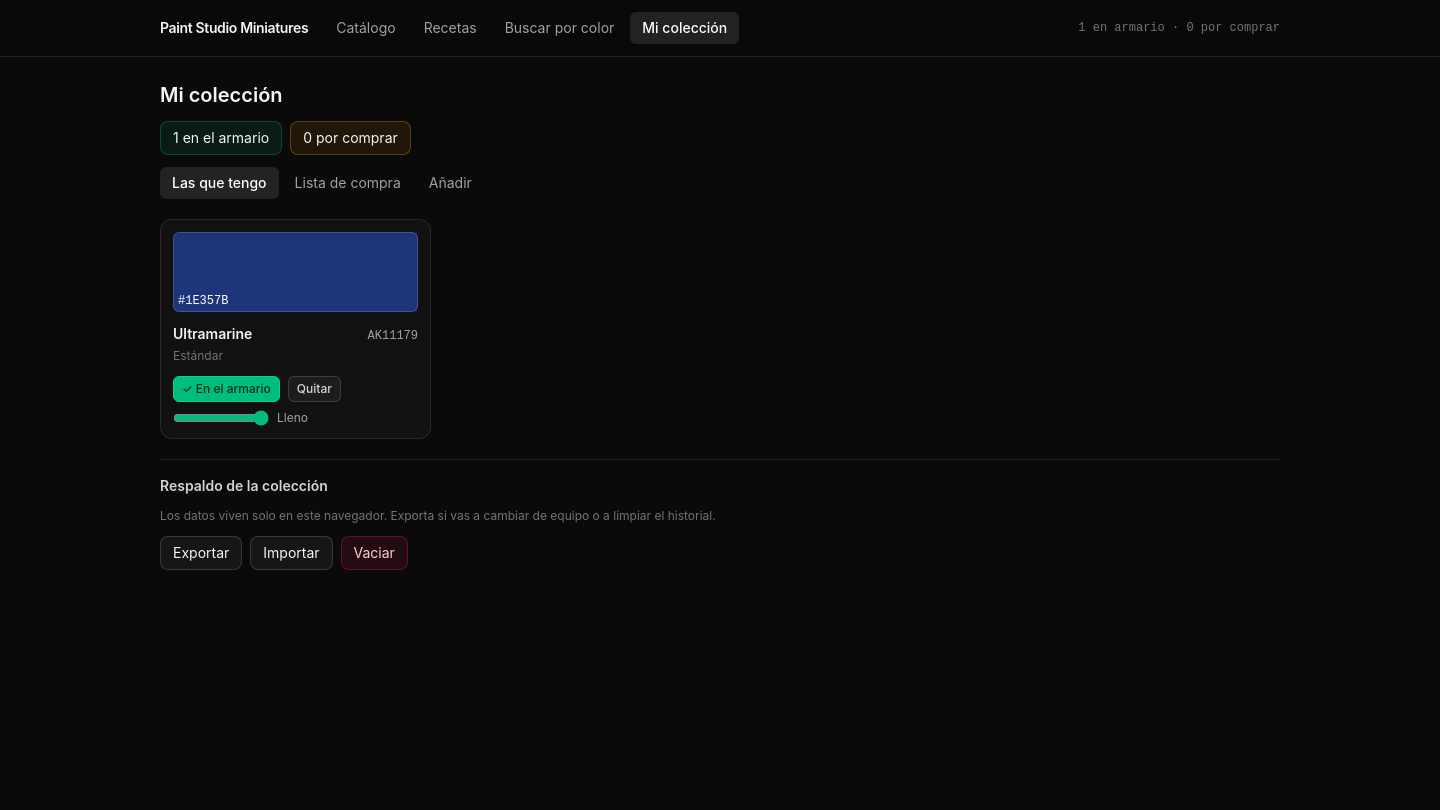
it: registros borrados › al quitar una pintura se puede pasar a la lista de compra en vez de borrarla
This screenshot has width=1440, height=810.
Click the button "Quitar".
click(314, 389)  # box x1=288 y1=376 x2=341 y2=402
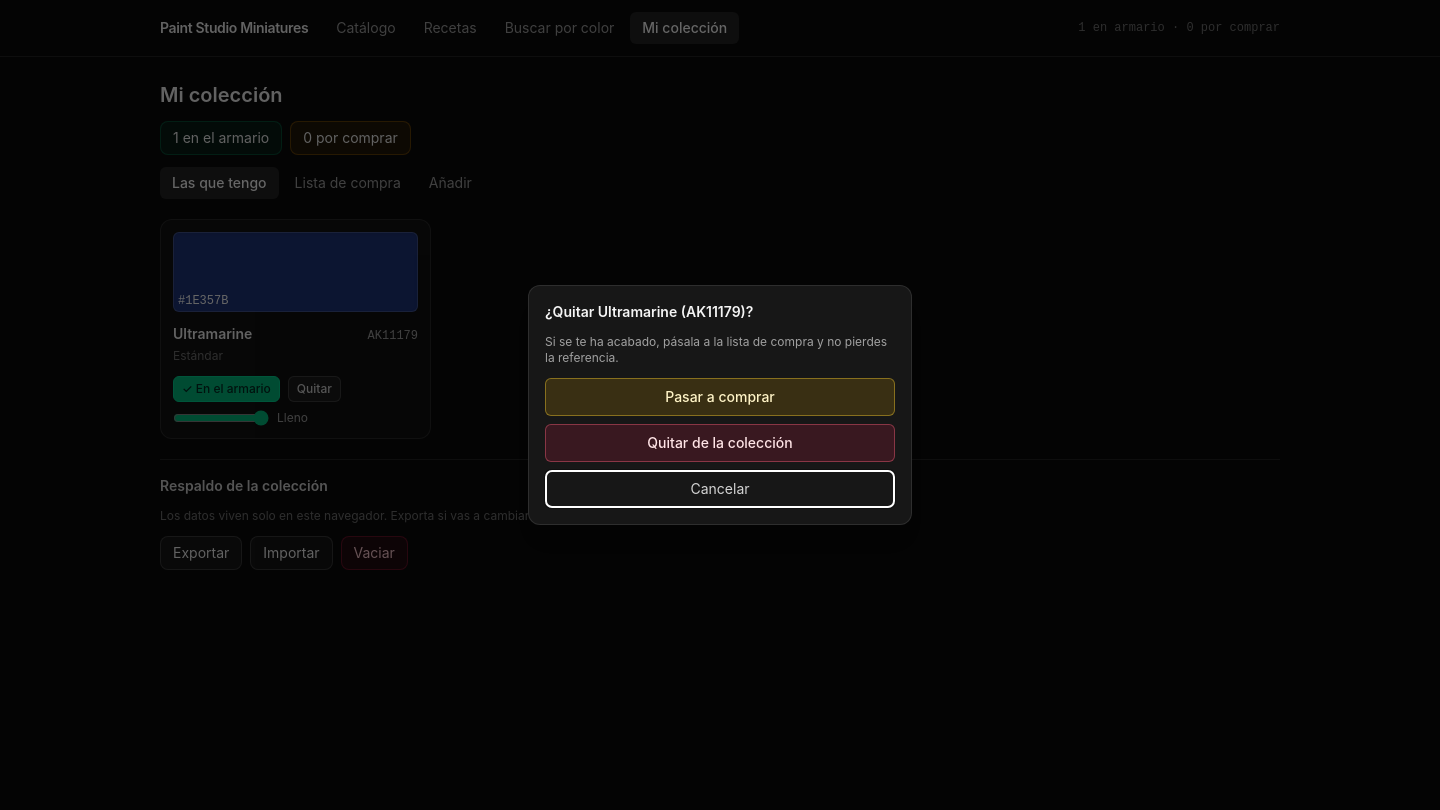
Click the button "Pasar a comprar".
click(720, 397)  # box x1=545 y1=378 x2=895 y2=416
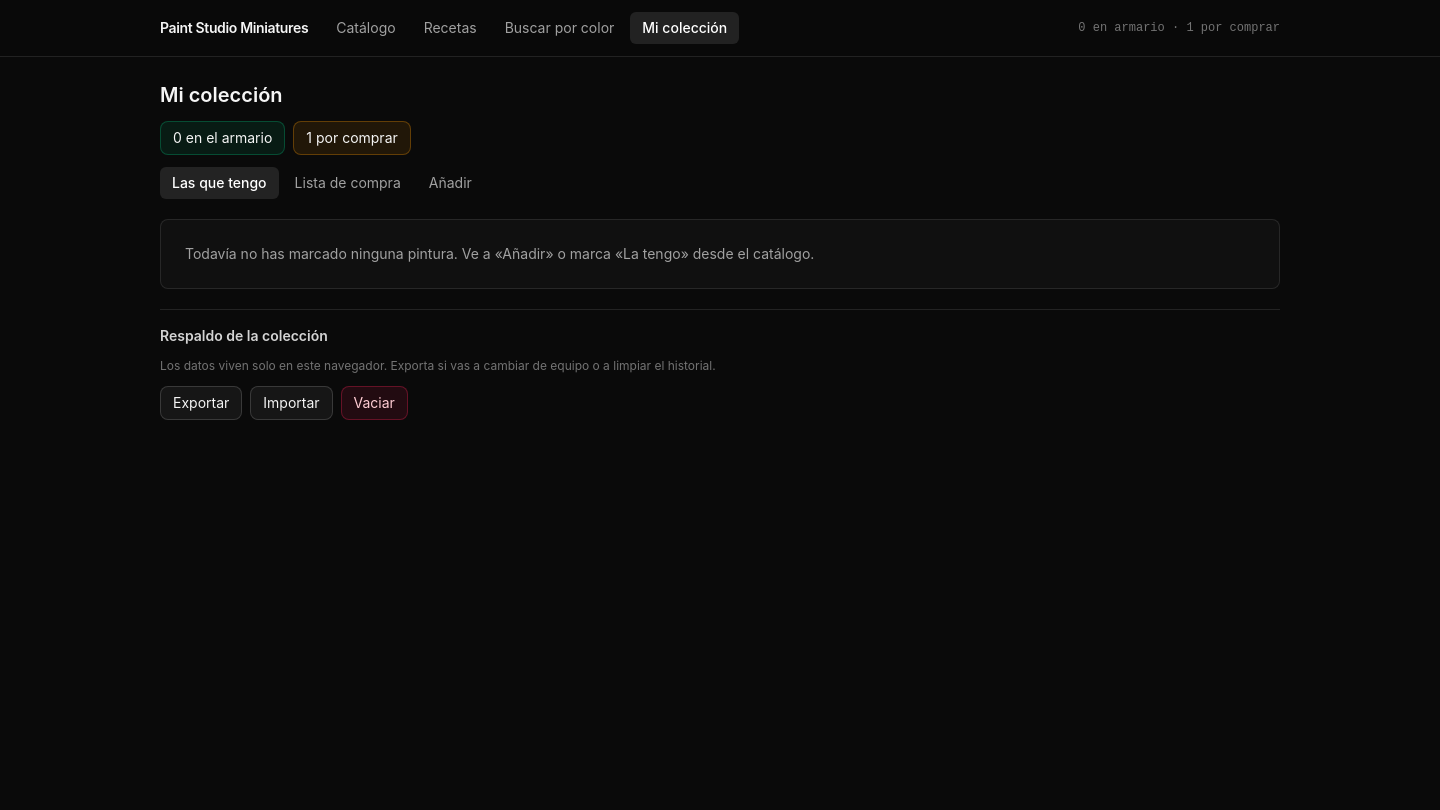
Expected: the dialog is gone
Expected: the text "0 en el armario" is shown, x1=160 y1=121 x2=285 y2=155
Expected: the text "1 por comprar" is shown, x1=1078 y1=20 x2=1280 y2=36
